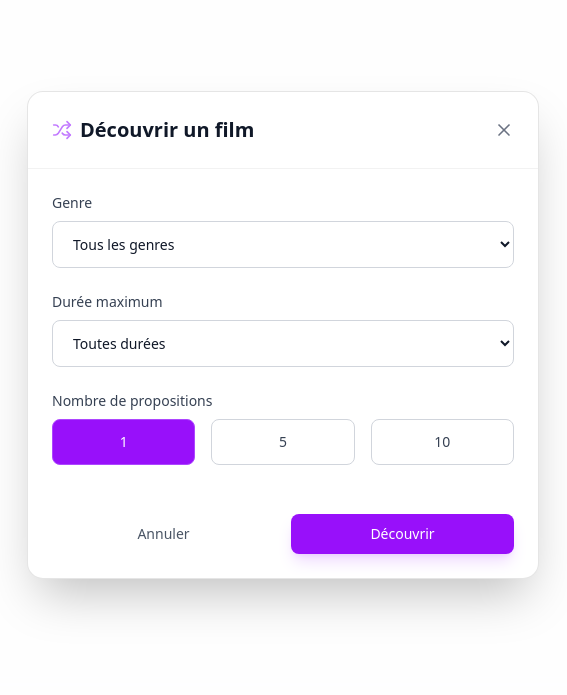
Test: DiscoverModal › présente des films uniques (ignore ceux finissant par -2)
The width and height of the screenshot is (567, 695).
// Demander 5 films pour forcer tous les résultats possibles
Step 1. Click the button "5" → (283, 442), box [211,419,355,465]
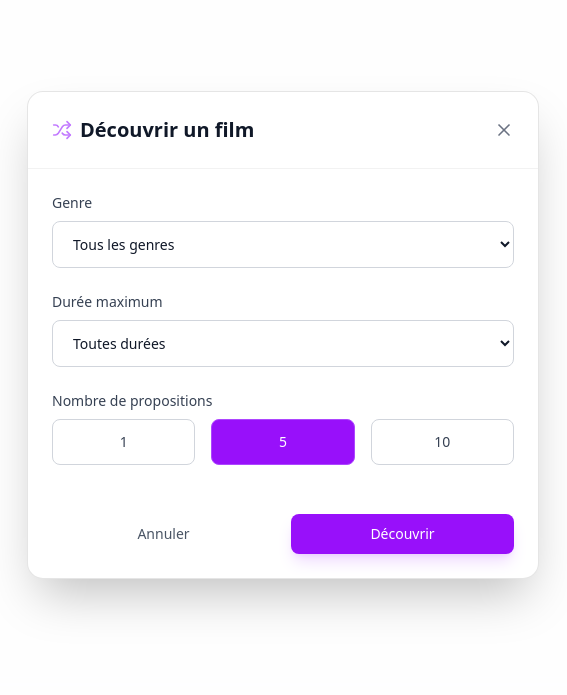
Step 2. Click the button "Découvrir" → (402, 534), box [291,514,514,554]
Wait 1600 ms
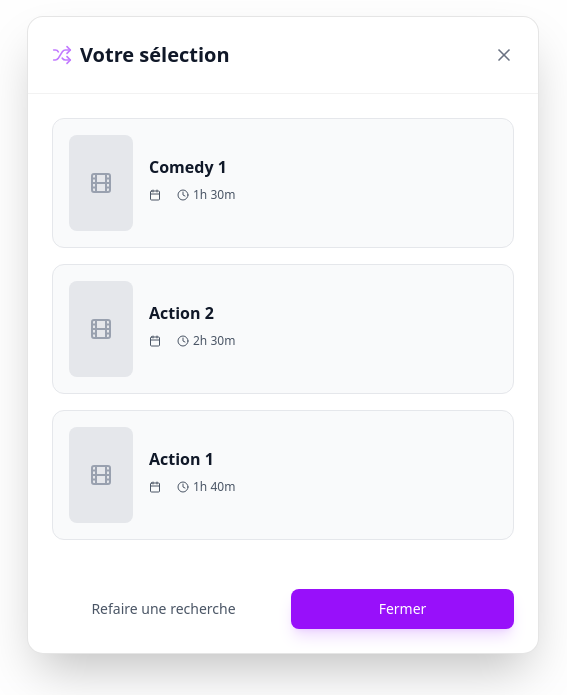
Expected: the heading "Action 1" is shown, [149,448,214,470]
Expected: the heading "Action 2" is shown, [149,302,214,324]
Expected: the heading "Comedy 1" is shown, [149,156,227,178]
